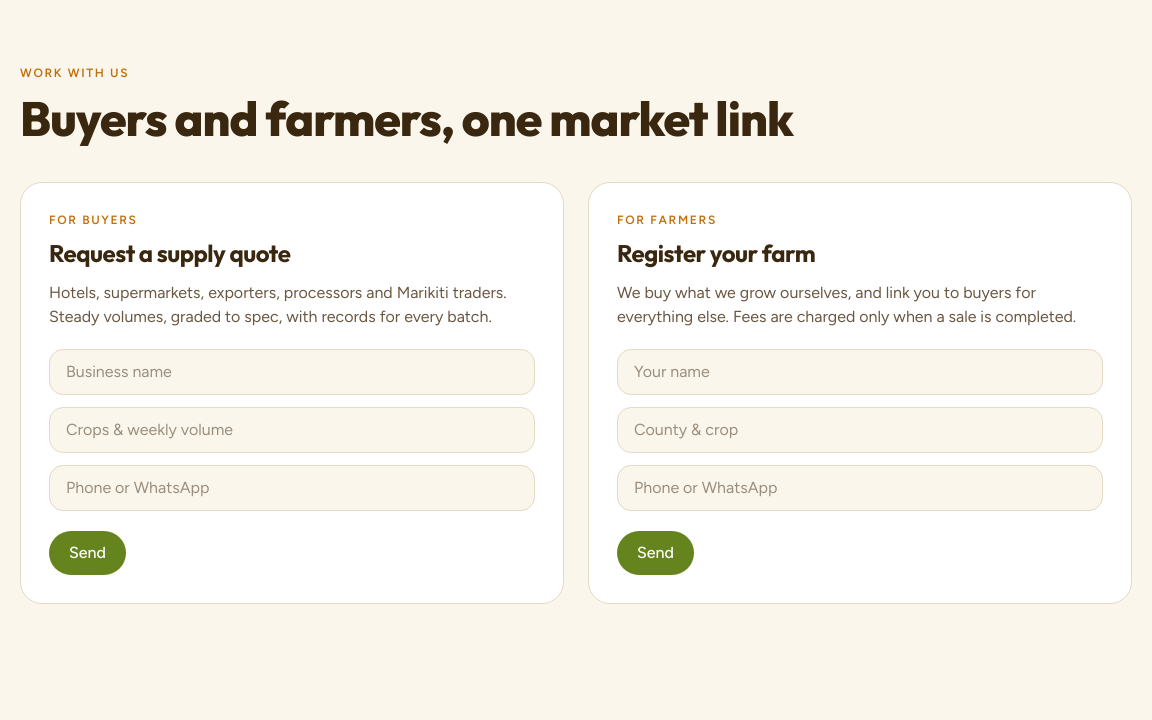
Work with us › saves a buyer request as a quote enquiry
The width and height of the screenshot is (1152, 720).
Type "Mama Mboga Ltd" into the field with placeholder "Business name" at (292, 372), box [49,349,535,395]
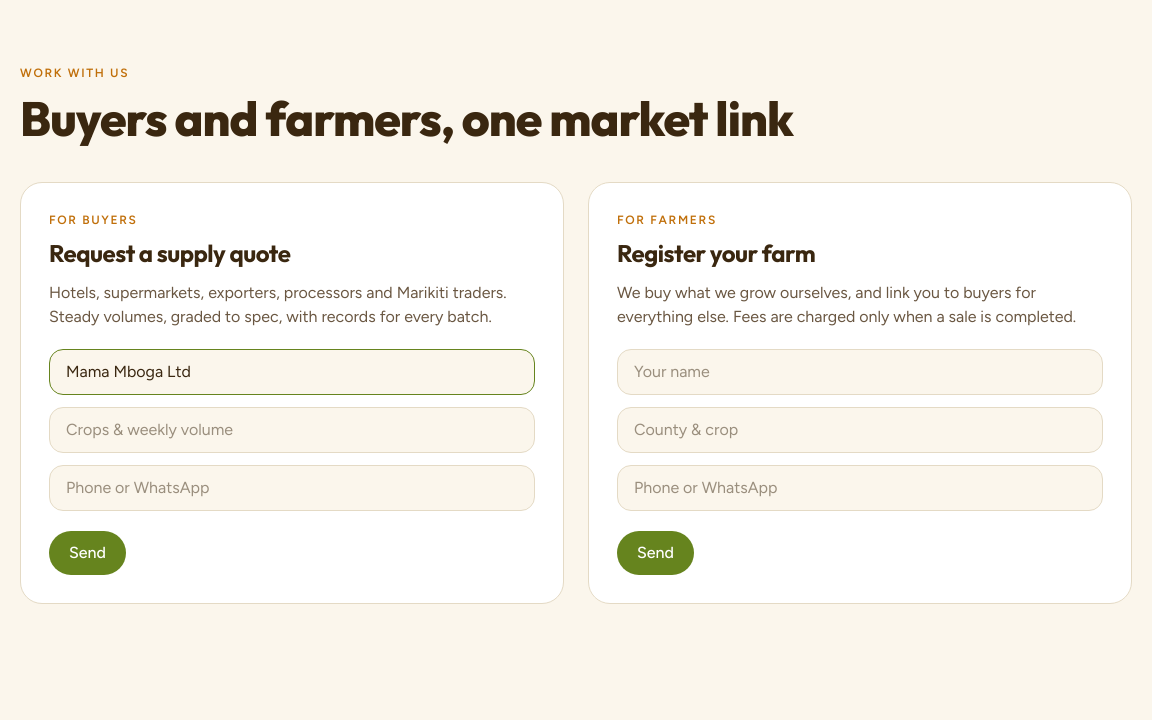
Type "Capsicum 500kg" into the field with placeholder "Crops & weekly volume" at (292, 430), box [49,407,535,453]
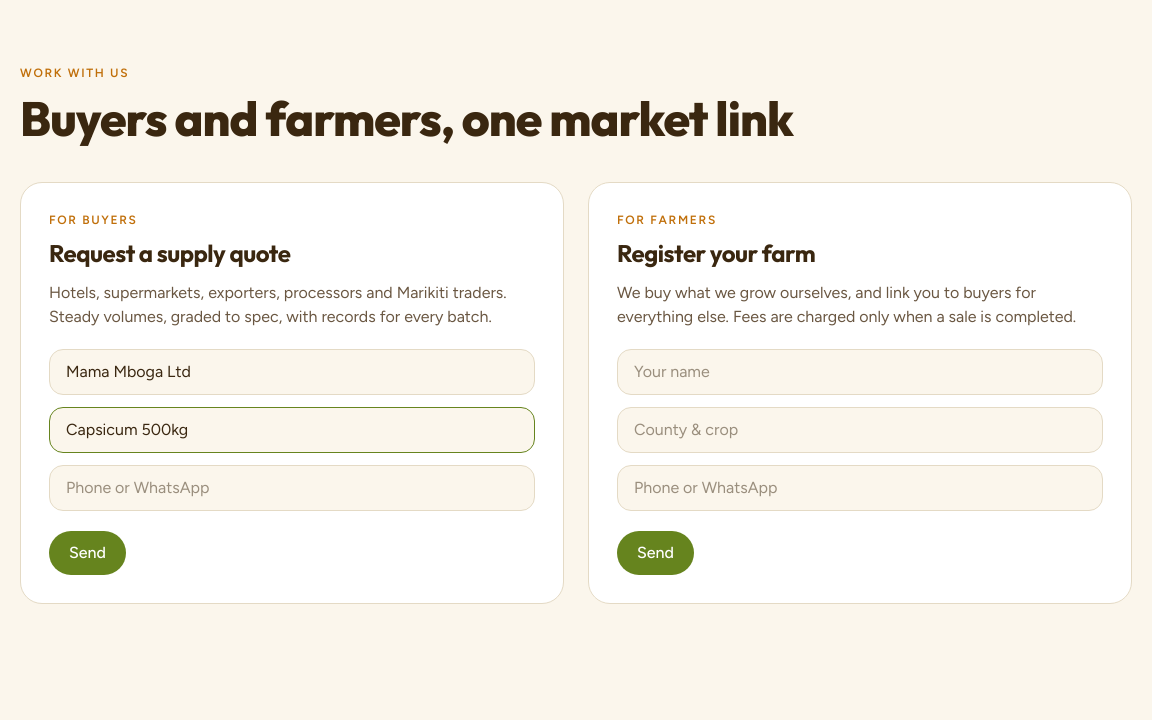
Type "0712345678" into the field with placeholder "Phone or WhatsApp" below "Request a supply quote" at (292, 488), box [49,465,535,511]
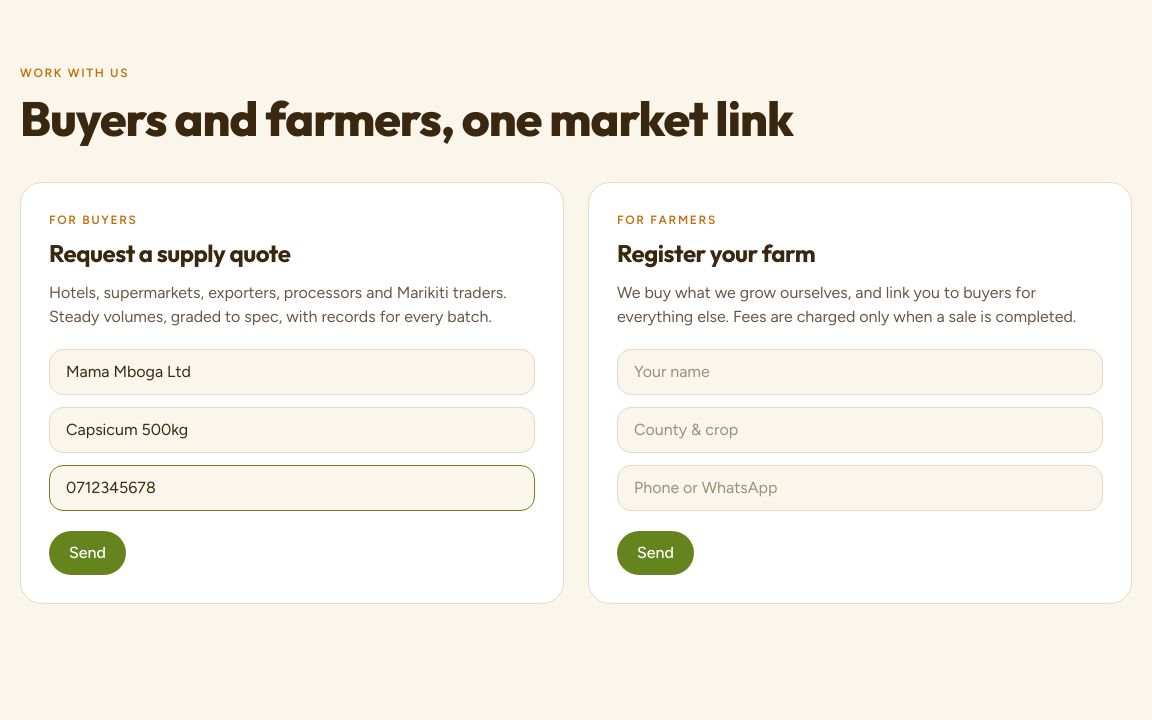
Click the button "Send" below "Request a supply quote" at (88, 553), box [49,531,126,575]
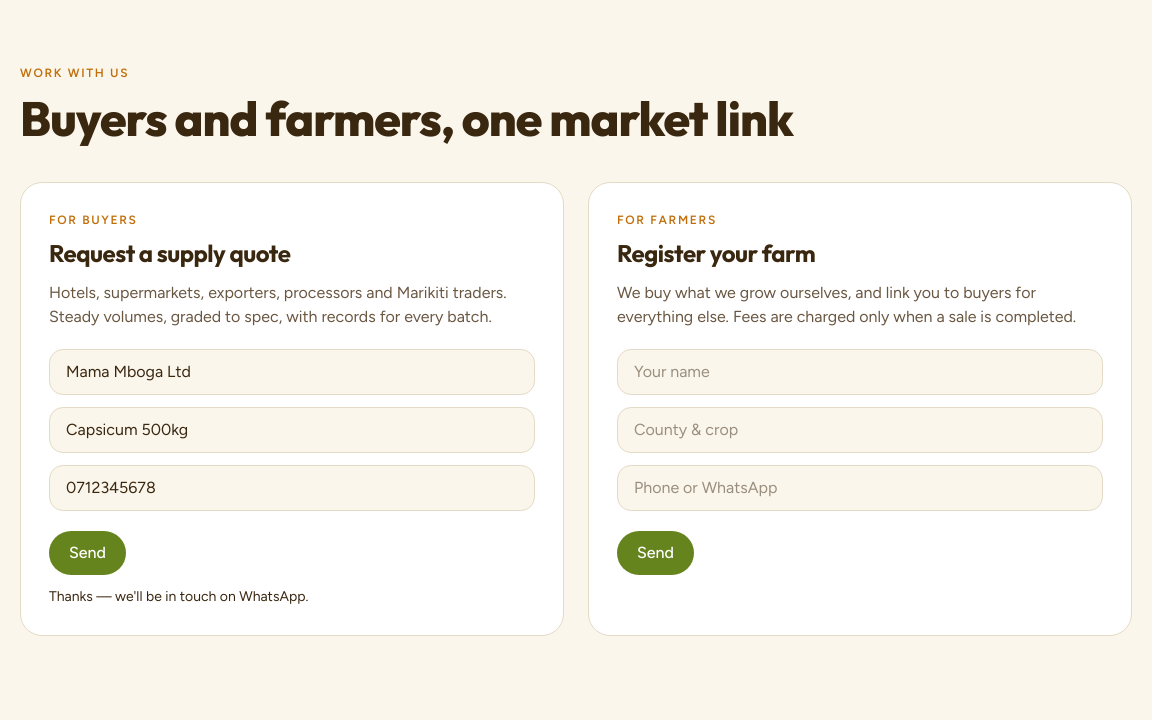
Check: the text "Thanks — we'll be in touch on WhatsApp." is shown, box [49,588,308,605]
